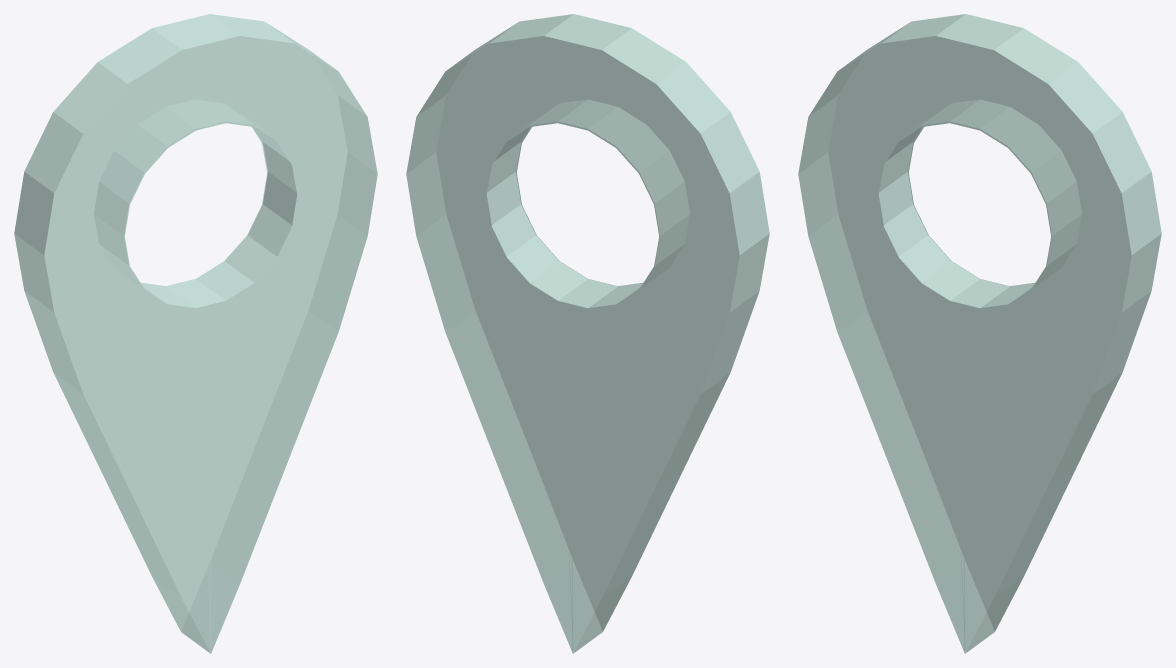
Rendered from transparent_marker.obj.
The picture shows the model from 3 angles, left to right: view 1: azimuth 30°, elevation 25°; view 2: azimuth 150°, elevation 25°; view 3: azimuth 330°, elevation 25°; orthographic projection.
Parts seen in each view (by area): view 1: Mesh1 Cylinder00_1 skpA75F1 Model; view 2: Mesh1 Cylinder00_1 skpA75F1 Model; view 3: Mesh1 Cylinder00_1 skpA75F1 Model.
Part boxes in pixels (x1,y1,x2,y2): Mesh1 Cylinder00_1 skpA75F1 Model: (14,14,377,653); Mesh1 Cylinder00_1 skpA75F1 Model: (406,14,769,653); Mesh1 Cylinder00_1 skpA75F1 Model: (798,14,1161,653).
Bounding box in the file's own units: 365 × 639 × 56.97.
